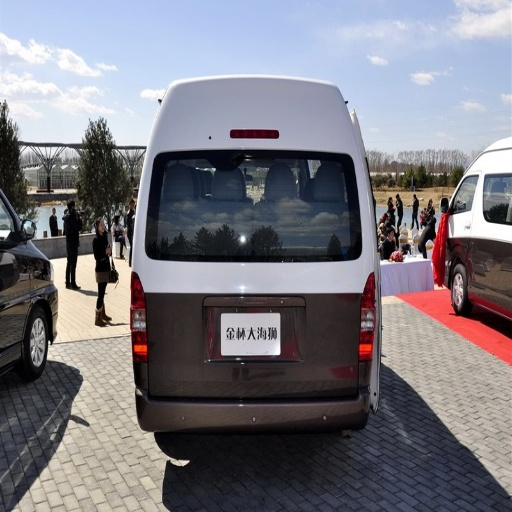back_bumper: (142, 377, 372, 430)
back_left_light: (129, 274, 148, 363)
back_right_light: (358, 275, 379, 364)
trunk: (145, 264, 368, 397)
